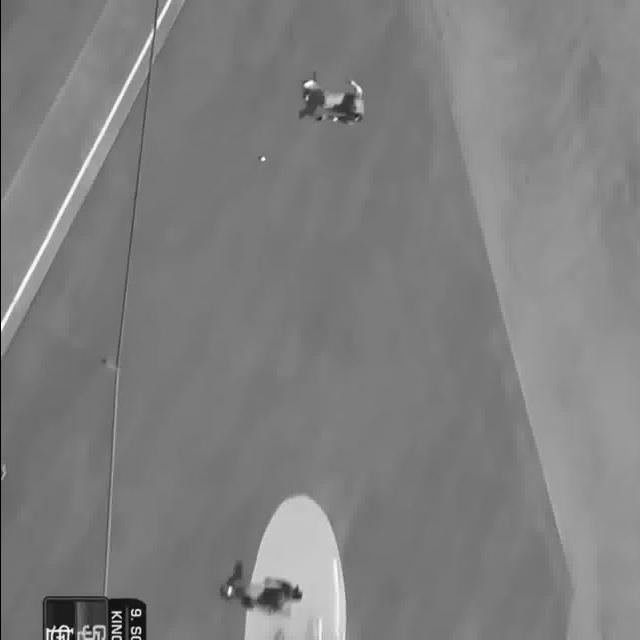baseball: (257, 156, 263, 162)
baseball_glove: (311, 113, 326, 125)
shoe: (298, 79, 316, 90), (222, 582, 230, 604)
